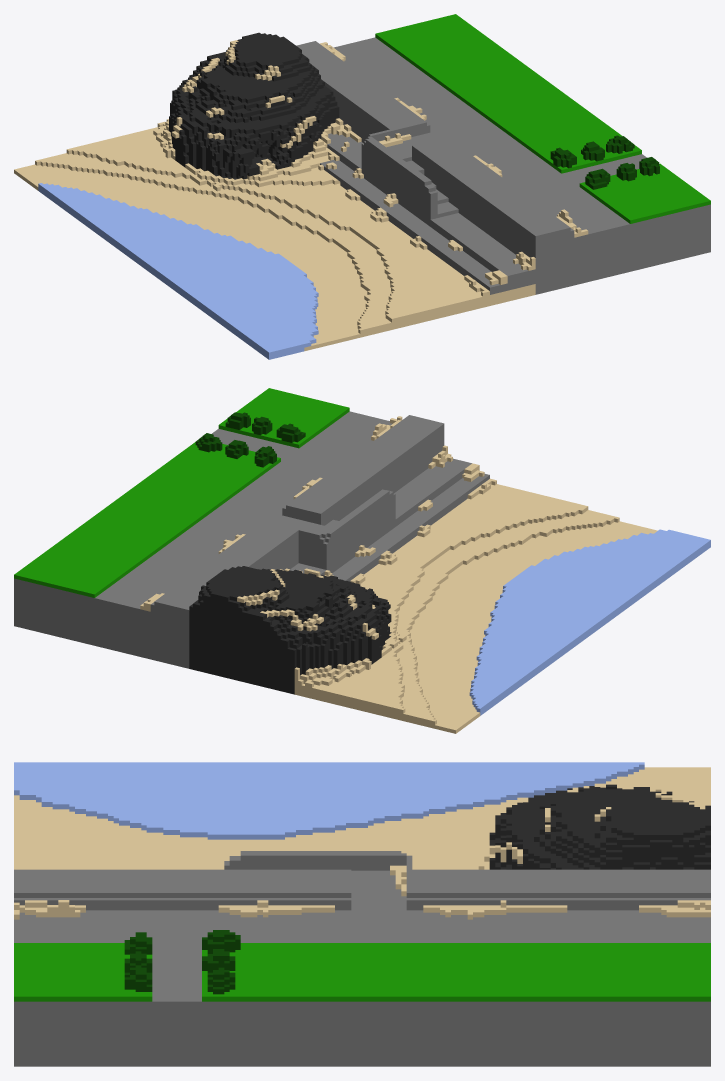
File: haikei2.fbx
The picture shows the model from 3 angles, top to bottom: view 1: azimuth 30°, elevation 25°; view 2: azimuth 150°, elevation 25°; view 3: azimuth 270°, elevation 25°; orthographic projection. The views are drawn at different scales.
Visible parts, largest first — view 1: ObjObject; view 2: ObjObject; view 3: ObjObject.
Part boxes in pixels (box(x1,y1,x2,y2)): ObjObject: box(14, 14, 710, 359); ObjObject: box(14, 388, 710, 733); ObjObject: box(14, 762, 710, 1066).
Bounding box in the file's own units: 1260 × 220 × 1260.
Materials: 1 (1 with a texture image).
